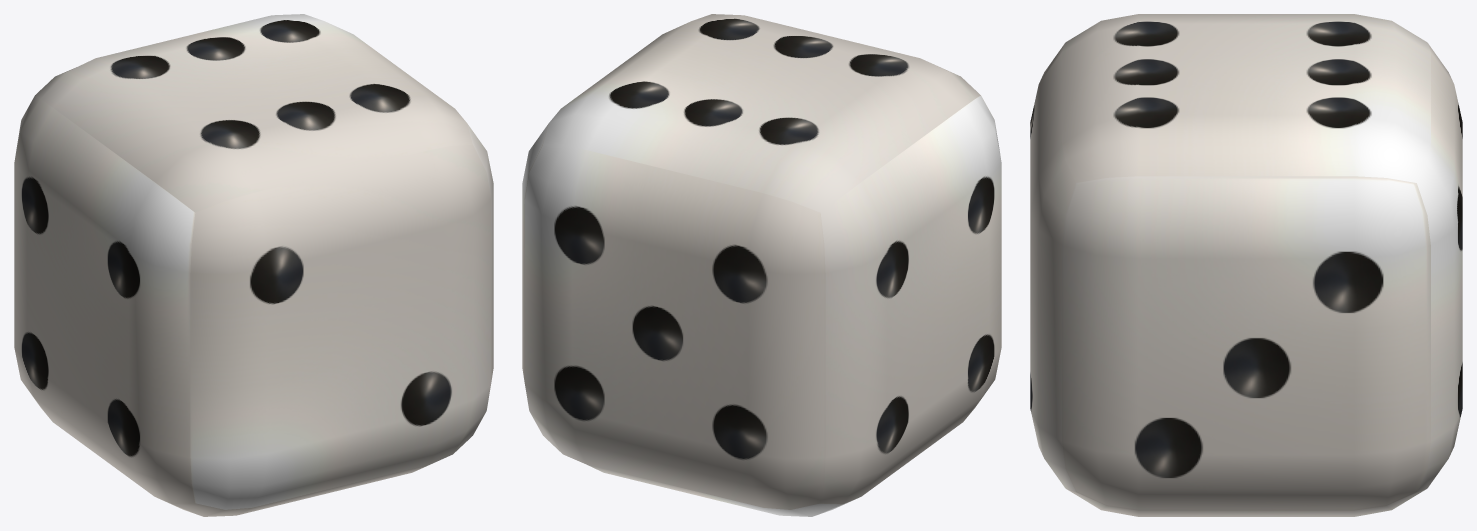
The model's file is NDice.fbx.
3 renders of one model, left to right at view 1: azimuth 30°, elevation 25°; view 2: azimuth 150°, elevation 25°; view 3: azimuth 270°, elevation 25°, orthographic. The views are drawn at different scales.
Parts seen in each view (by area): view 1: Dice; view 2: Dice; view 3: Dice.
Boxes of the visible parts, x1,y1,x2,y2 form: Dice: (14, 14, 493, 516); Dice: (522, 14, 1001, 516); Dice: (1030, 14, 1462, 516).
Size of the model in its own units: 1 by 1 by 1.
